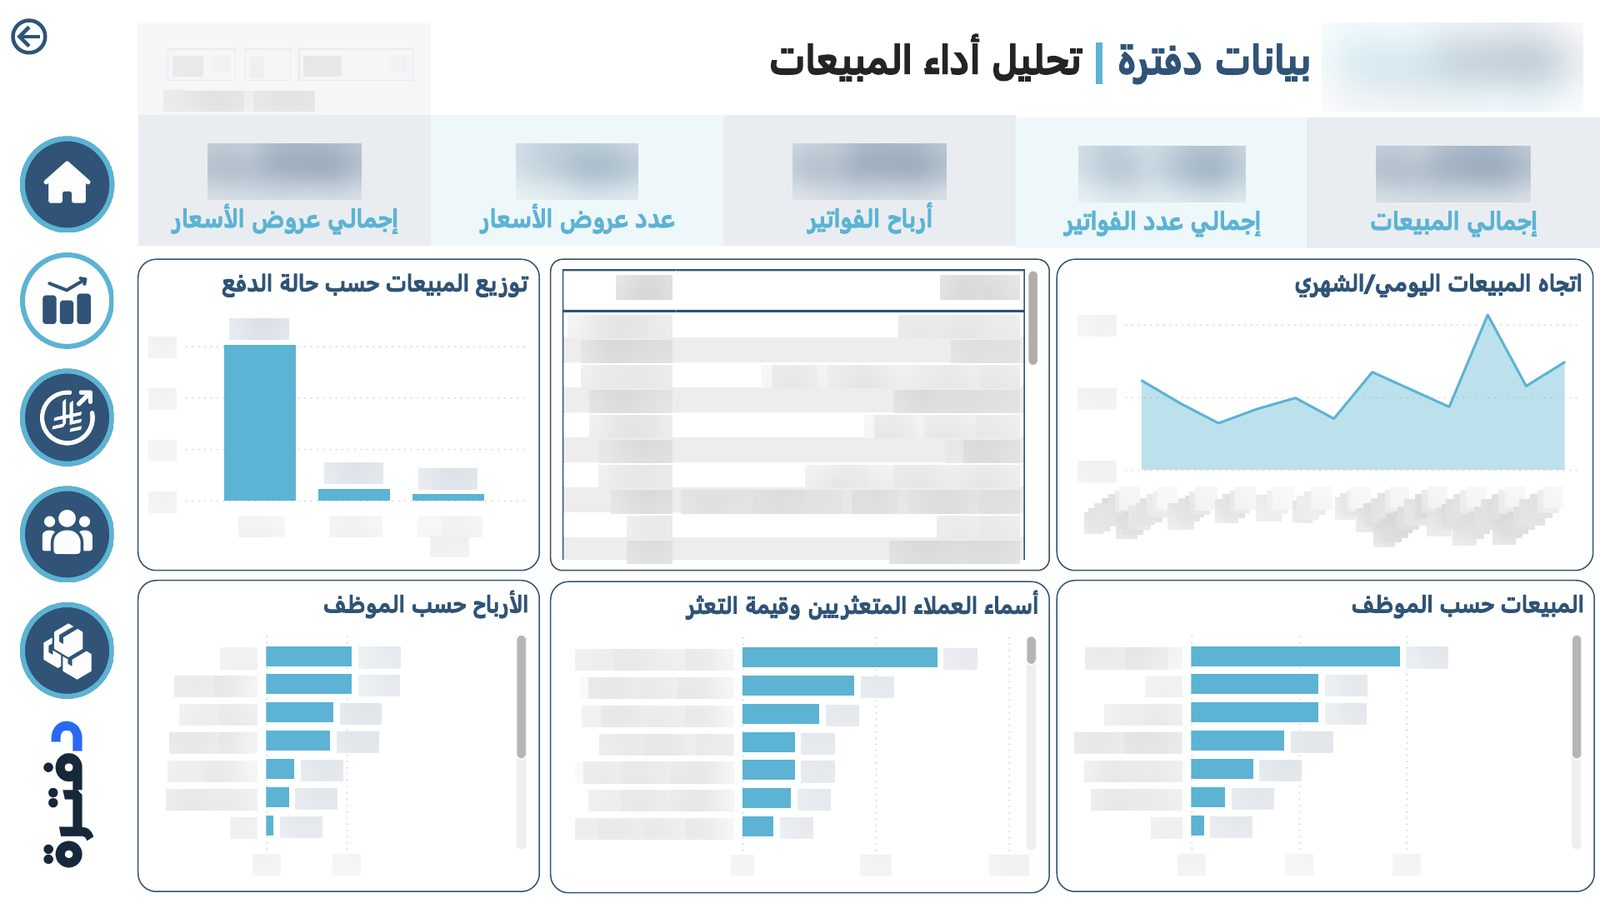

Layout of this report page (visuals, bound fields, positions):
{"tool":"powerbi","page":{"name":" بيانات دفترة | تحليل أداء المبيعات","canvas":[1280,720],"ordinal":1},"visuals":[{"type":"shape","box":[16.4,103.7,75.6,77.3],"z":0},{"type":"textbox","box":[592.5,13.8,461.2,63.8],"z":1000},{"type":"image","box":[1055,9,214,80],"z":2000},{"type":"card","fields":{"Values":["daftra_invoice.Sales without Refunds"]},"box":[1046,89.3,234,105.2],"z":3000},{"type":"card","fields":{"Values":["daftra_invoice.Net Invoice Count"]},"box":[812.9,89.3,234,105],"z":4000},{"type":"card","fields":{"Values":["daftra_invoice_item.Profit without Refunds"]},"box":[578.9,87.1,234,105.2],"z":5000},{"type":"actionButton","box":[4.3,0,38.6,48.6],"z":6000},{"type":"clusteredColumnChart","title":"توزيع المبيعات حسب حالة الدفع","fields":{"Category":["Payment Status.Type"],"Y":["daftra_invoice.Payment Value"]},"box":[110,201.7,321.7,250],"z":7000},{"type":"clusteredBarChart","title":"المبيعات حسب الموظف","fields":{"Y":["daftra_invoice.Sales without Refunds"],"Category":["daftra_staff.full_name"]},"box":[845.4,459.3,431.4,250],"z":8000},{"type":"clusteredBarChart","title":"الأرباح حسب الموظف","fields":{"Category":["daftra_staff.full_name"],"Y":["daftra_invoice_item.Profit without Refunds"]},"box":[110.5,459.3,322.1,250],"z":9000},{"type":"areaChart","title":"اتجاه المبيعات اليومي/الشهري","fields":{"Y":["daftra_invoice.Sales without Refunds"],"Category":["Date.Date.Variation.Date Hierarchy.Year","Date.Date.Variation.Date Hierarchy.Quarter","Date.Date.Variation.Date Hierarchy.Month","Date.Date.Variation.Date Hierarchy.Day"]},"box":[845,201.7,430,250],"z":10000},{"type":"shape","box":[16.4,477.3,75.5,77.3],"z":11000},{"type":"shape","box":[16.4,196.9,75.5,77.3],"z":12000},{"type":"shape","box":[16.4,290,75.5,78.2],"z":13000},{"type":"shape","box":[16.4,384.1,75.5,77.3],"z":14000},{"type":"image","box":[27.3,209.1,53.6,52.7],"z":15000},{"type":"image","box":[29.1,396.4,50,50],"z":16000},{"type":"image","box":[26.4,482.7,56.4,67.3],"z":17000},{"type":"image","box":[21.8,554.5,64.5,154.5],"z":18000},{"type":"image","box":[23.6,291.8,61.8,74.5],"z":19000},{"type":"image","box":[27.3,113.6,53.6,53.6],"z":20000},{"type":"card","fields":{"Values":["Count(daftra_estimate.id)"]},"box":[344.9,87.1,234,105.2],"z":21000},{"type":"card","fields":{"Values":["Sum(daftra_estimate.summary_total)"]},"box":[110.8,87.1,234,105.2],"z":22000},{"type":"tableEx","fields":{"Values":["daftra_treasury.balance","daftra_treasury.name"]},"box":[440,201.7,400,250],"z":23000},{"type":"slicer","fields":{"Values":["Date.Date"]},"box":[110.5,14,234.9,73.3],"z":24000},{"type":"clusteredBarChart","title":"أسماء العملاء المتعثريين وقيمة التعثر","fields":{"Category":["daftra_client.business_name"],"Y":["daftra_invoice.Overdue Sales Net"]},"box":[439.5,460.5,400,250],"z":25000}]}

Visuals, with their boxes in screenshot pixels (x1, y1, x2, y2), scaled from the page's 1280x720 canvas onto the 1600x913 screenshot:
shape: x1=20, y1=131, x2=115, y2=230
textbox: x1=741, y1=17, x2=1317, y2=98
image: x1=1319, y1=11, x2=1586, y2=113
card - daftra_invoice.Sales without Refunds: x1=1308, y1=113, x2=1599, y2=247
card - daftra_invoice.Net Invoice Count: x1=1016, y1=113, x2=1309, y2=246
card - daftra_invoice_item.Profit without Refunds: x1=724, y1=110, x2=1016, y2=244
actionButton: x1=5, y1=0, x2=54, y2=62
"توزيع المبيعات حسب حالة الدفع" clusteredColumnChart: x1=138, y1=256, x2=540, y2=573
"المبيعات حسب الموظف" clusteredBarChart: x1=1057, y1=582, x2=1596, y2=899
"الأرباح حسب الموظف" clusteredBarChart: x1=138, y1=582, x2=541, y2=899
"اتجاه المبيعات اليومي/الشهري" areaChart: x1=1056, y1=256, x2=1594, y2=573
shape: x1=20, y1=605, x2=115, y2=703
shape: x1=20, y1=250, x2=115, y2=348
shape: x1=20, y1=368, x2=115, y2=467
shape: x1=20, y1=487, x2=115, y2=585
image: x1=34, y1=265, x2=101, y2=332
image: x1=36, y1=503, x2=99, y2=566
image: x1=33, y1=612, x2=104, y2=697
image: x1=27, y1=703, x2=108, y2=899
image: x1=30, y1=370, x2=107, y2=464
image: x1=34, y1=144, x2=101, y2=212
card - Count(daftra_estimate.id): x1=431, y1=110, x2=724, y2=244
card - Sum(daftra_estimate.summary_total): x1=138, y1=110, x2=431, y2=244
tableEx - daftra_treasury.balance x daftra_treasury.name: x1=550, y1=256, x2=1050, y2=573
slicer - Date.Date: x1=138, y1=18, x2=432, y2=111
"أسماء العملاء المتعثريين وقيمة التعثر" clusteredBarChart: x1=549, y1=584, x2=1049, y2=901
